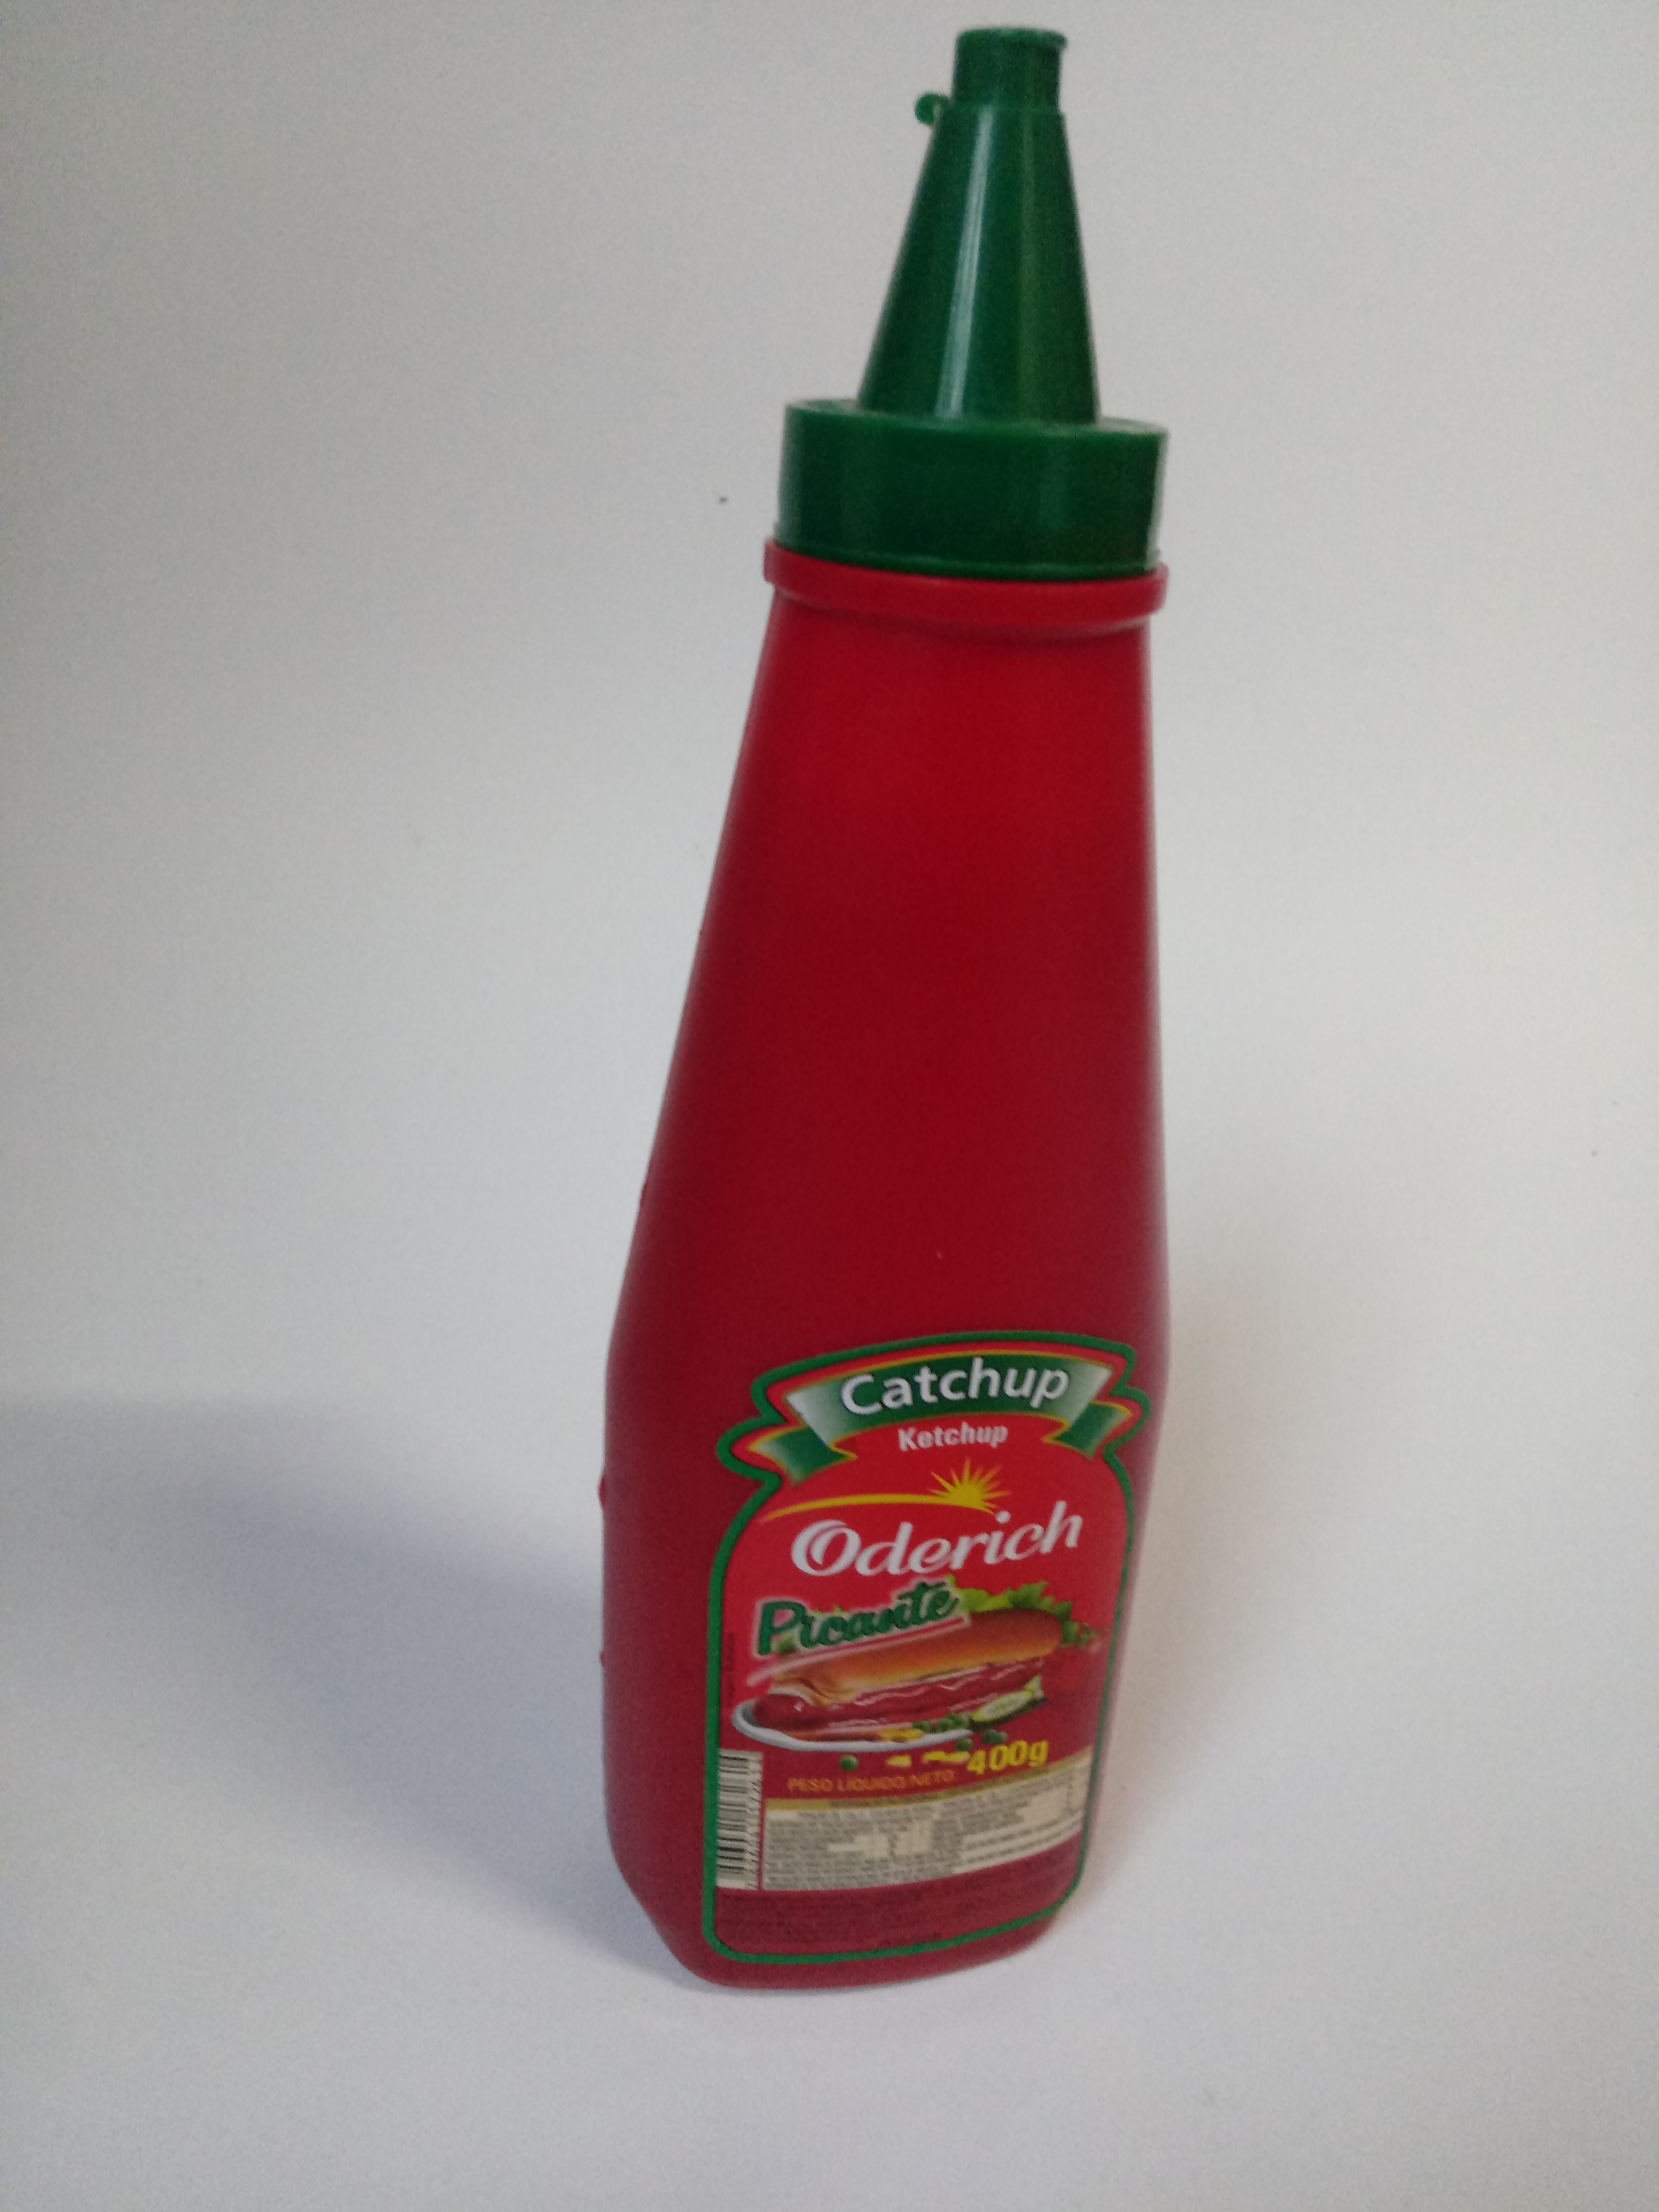catchup-oderich: (587, 2, 1192, 2029)
